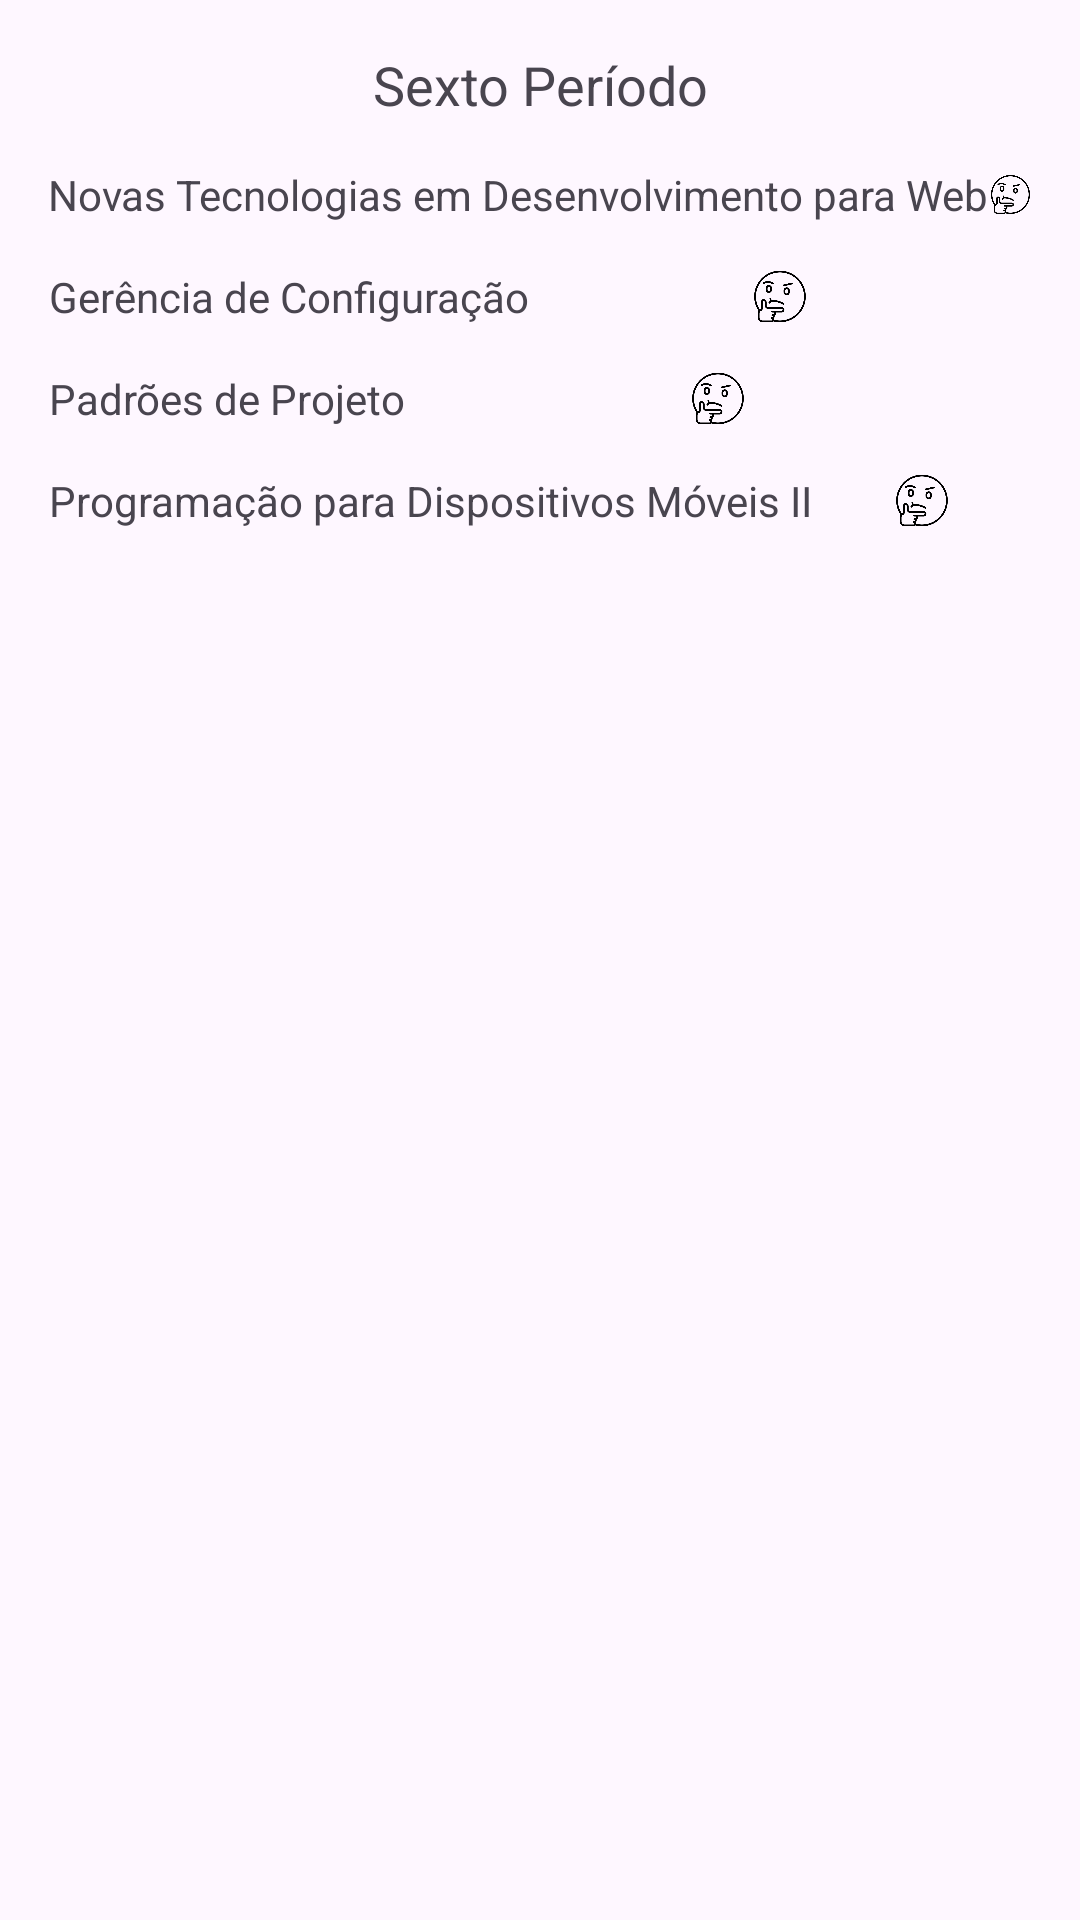

Named icons in this screenshot (1080 x 1920) and their bounding boxes, (x1, y1, x2, y2):
thinking face: (991, 175, 1030, 214), (754, 271, 806, 322), (692, 373, 744, 424), (896, 475, 948, 526)
